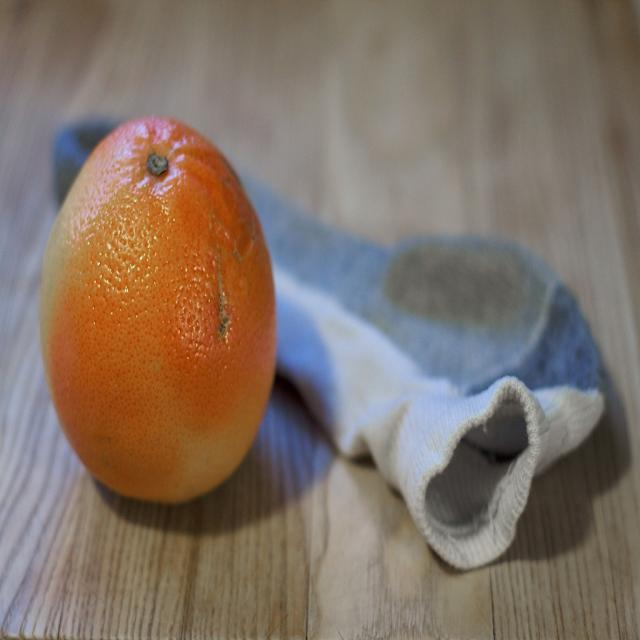Orange: (38, 111, 278, 504)
